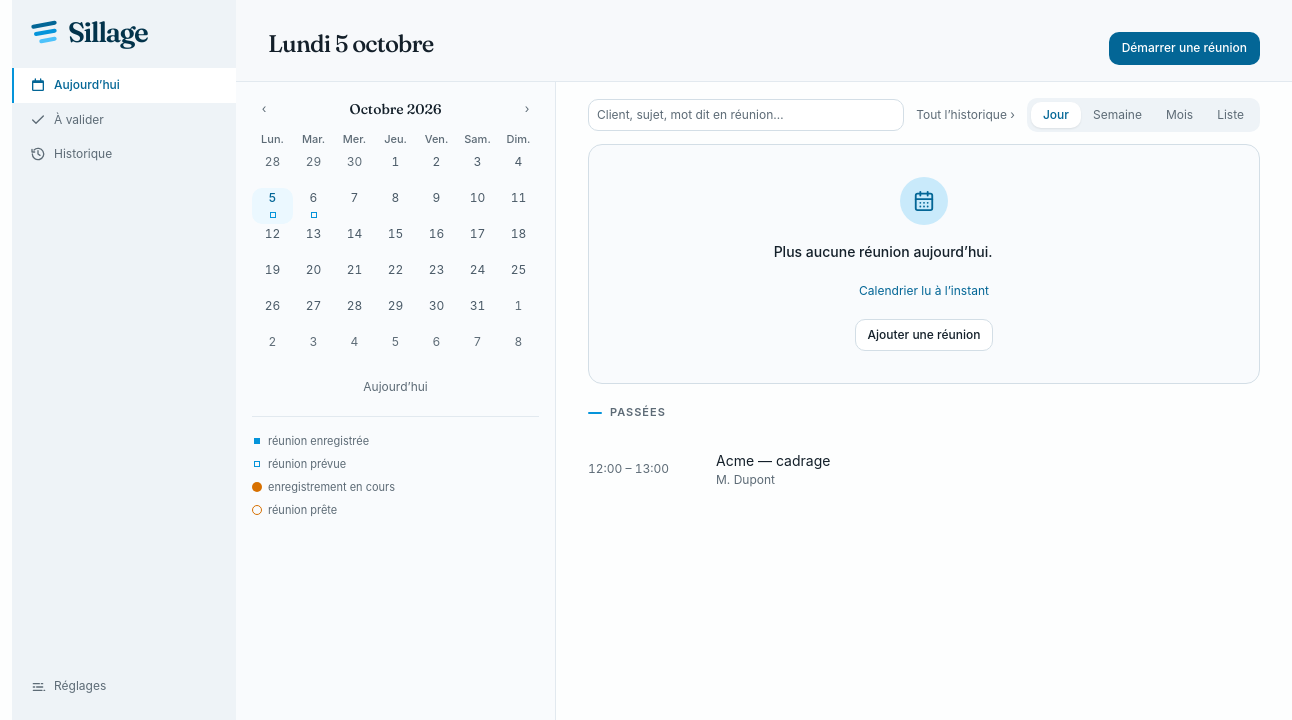
Scenario: a rep can select any day and see it › the day list follows the selection, and shows one day at a time
Expected: the text "Acme — cadrage" is shown, [716, 452, 830, 468]
Expected: the text "Nordis — suivi" is not shown
Click the 1st button "6": x=314, y=206 [293, 188, 334, 224]
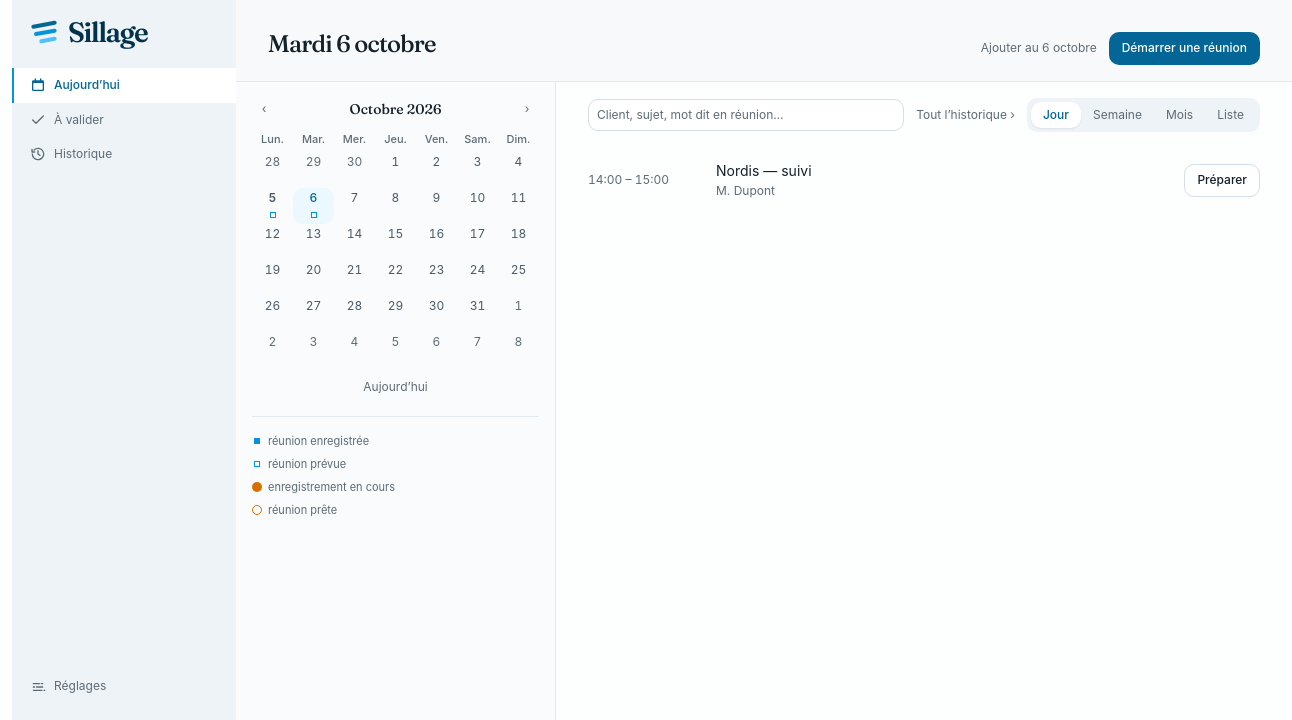
Result: the text "Nordis — suivi" is shown at [716, 162, 812, 179]
Result: the text "Acme — cadrage" is gone
